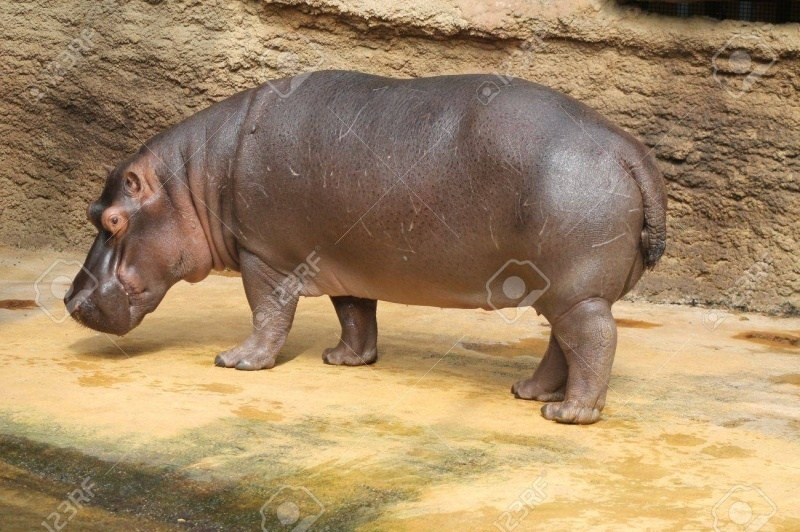hipopotamo: (57, 62, 671, 433)
